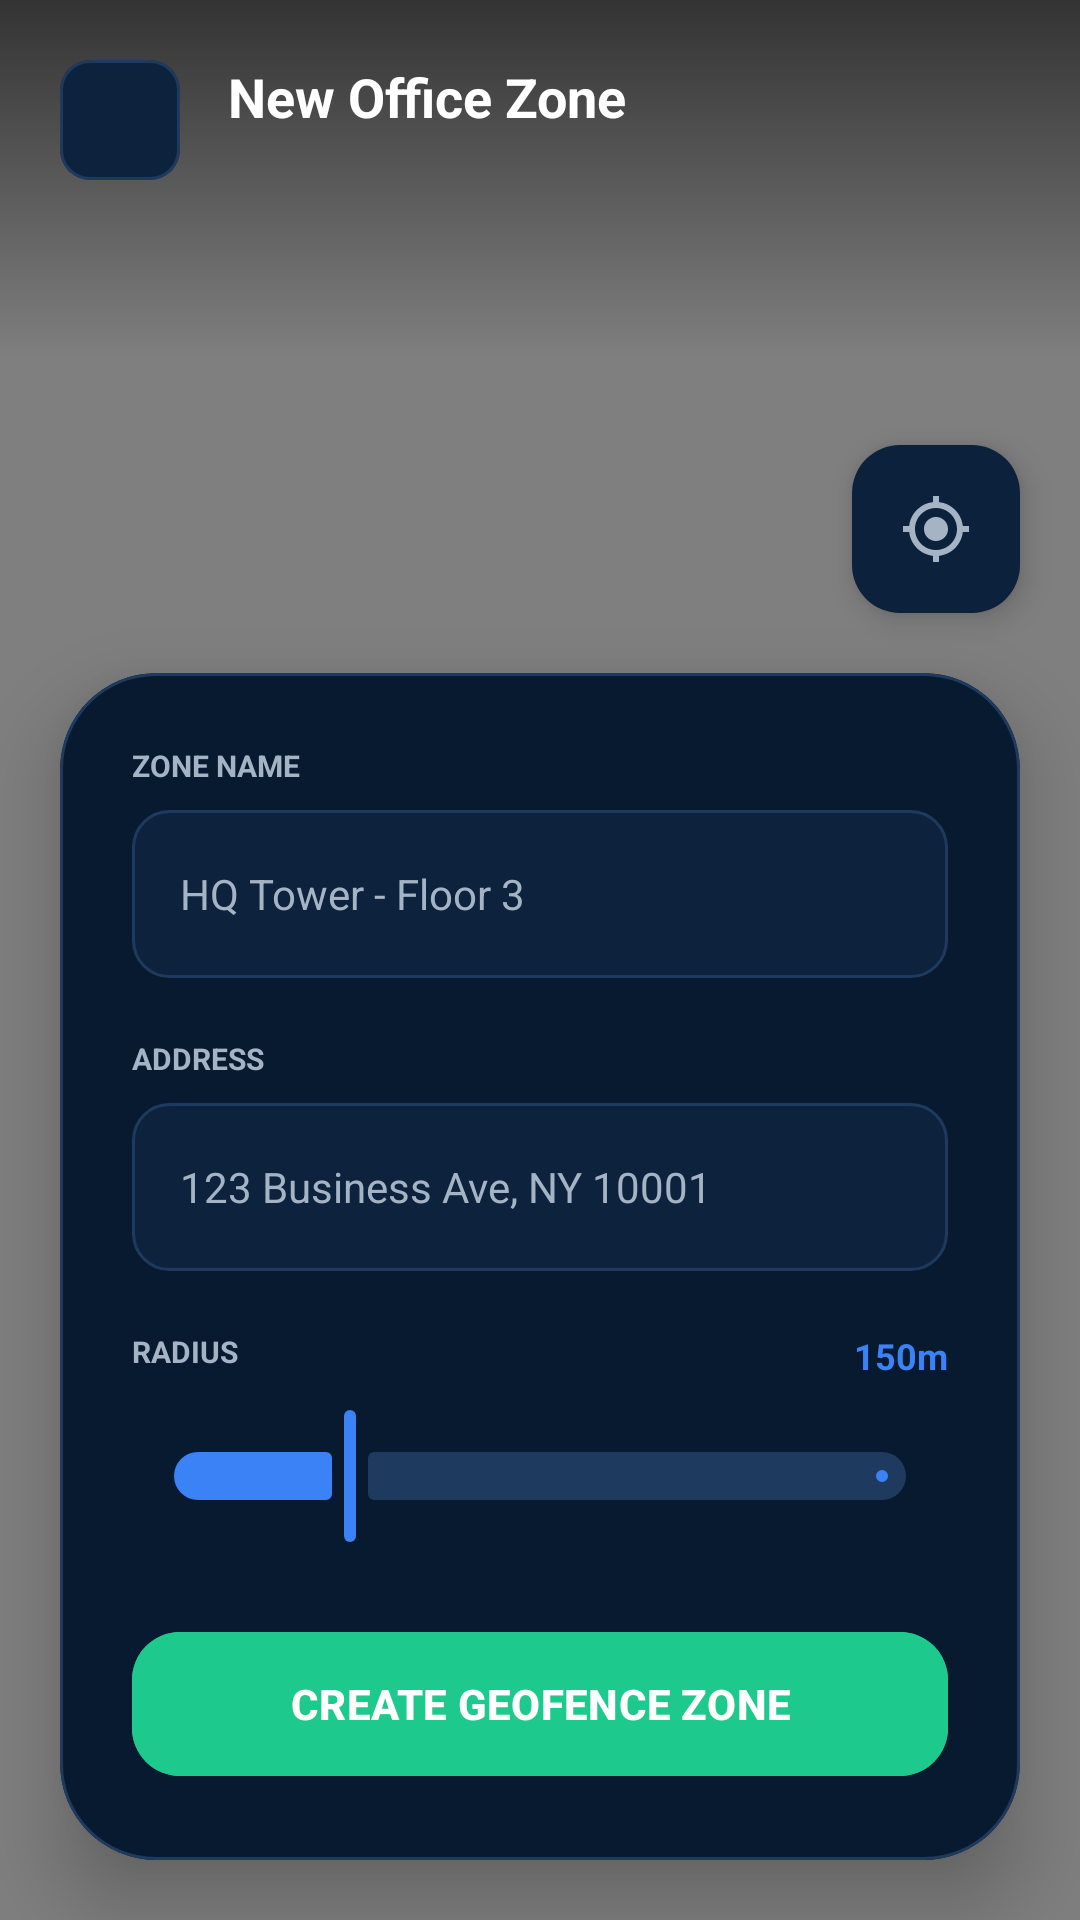

Icons on this 1080×1920 Android screen, each with the point to tap as (x=x, y=y):
target: (x=936, y=529)
